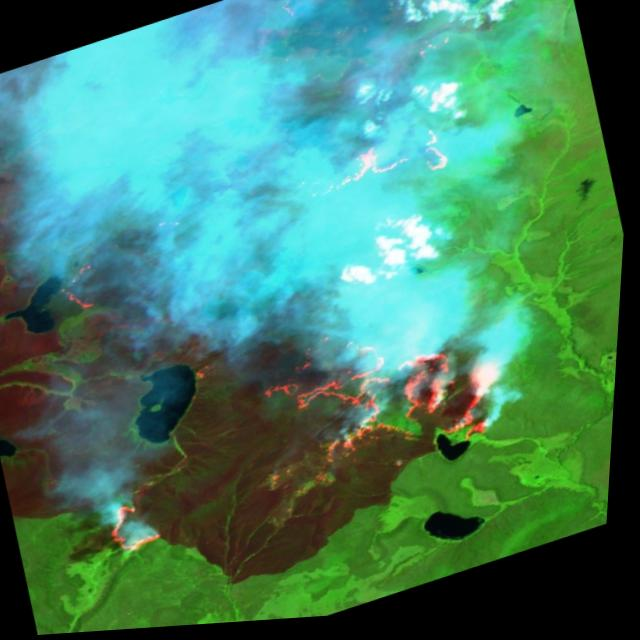fire: (16, 108, 548, 600)
